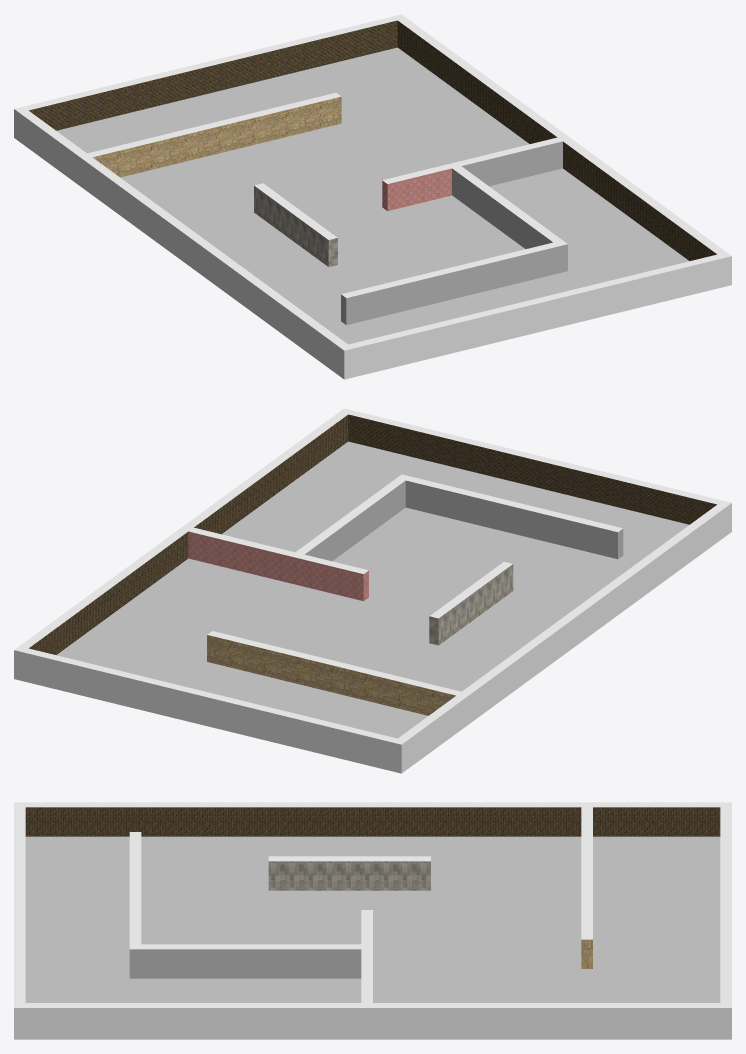
The model's file is maze1.dae.
The picture shows the model from 3 angles, top to bottom: view 1: azimuth 30°, elevation 25°; view 2: azimuth 150°, elevation 25°; view 3: azimuth 270°, elevation 25°; orthographic projection. The views are drawn at different scales.
Visible parts, largest first — view 1: maze1.STL (×9); view 2: maze1.STL (×9); view 3: maze1.STL (×7).
Part boxes in pixels (left/top/right/bottom): maze1.STL (×9): left=14, top=14, right=731, bottom=379; maze1.STL (×9): left=14, top=408, right=731, bottom=773; maze1.STL (×7): left=14, top=802, right=731, bottom=1039.
Size of the model in its own units: 827 by 1220 by 59.06.
